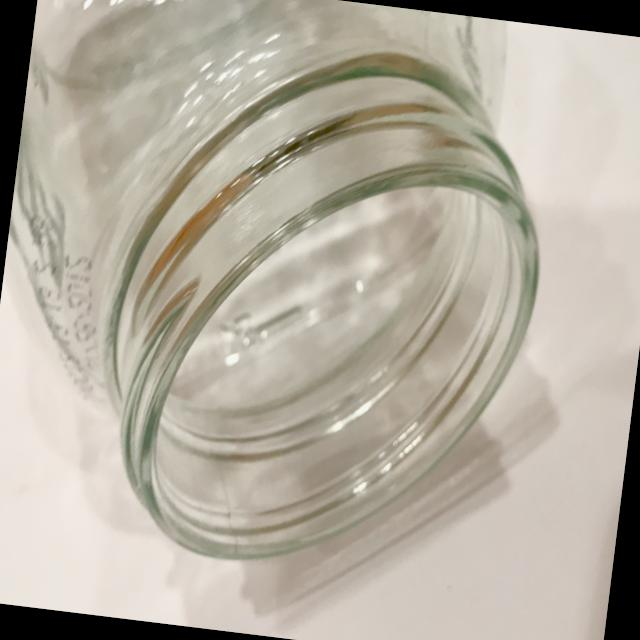Glass: (0, 0, 577, 600)
